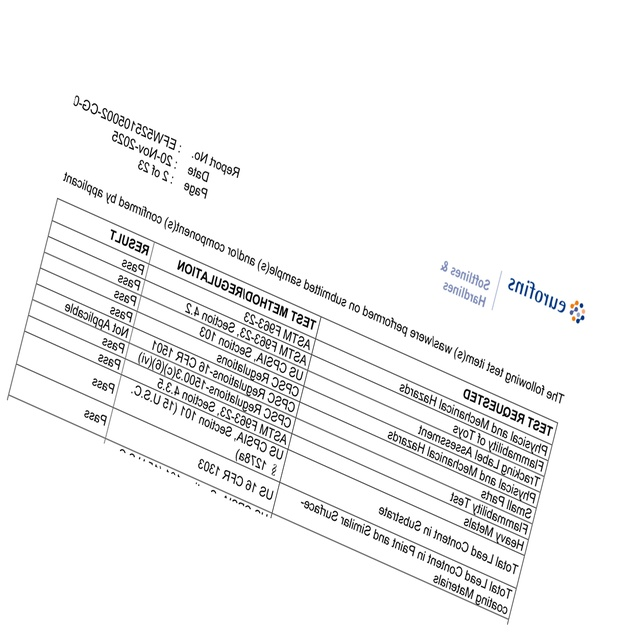eurofins: (506, 272, 588, 327)
